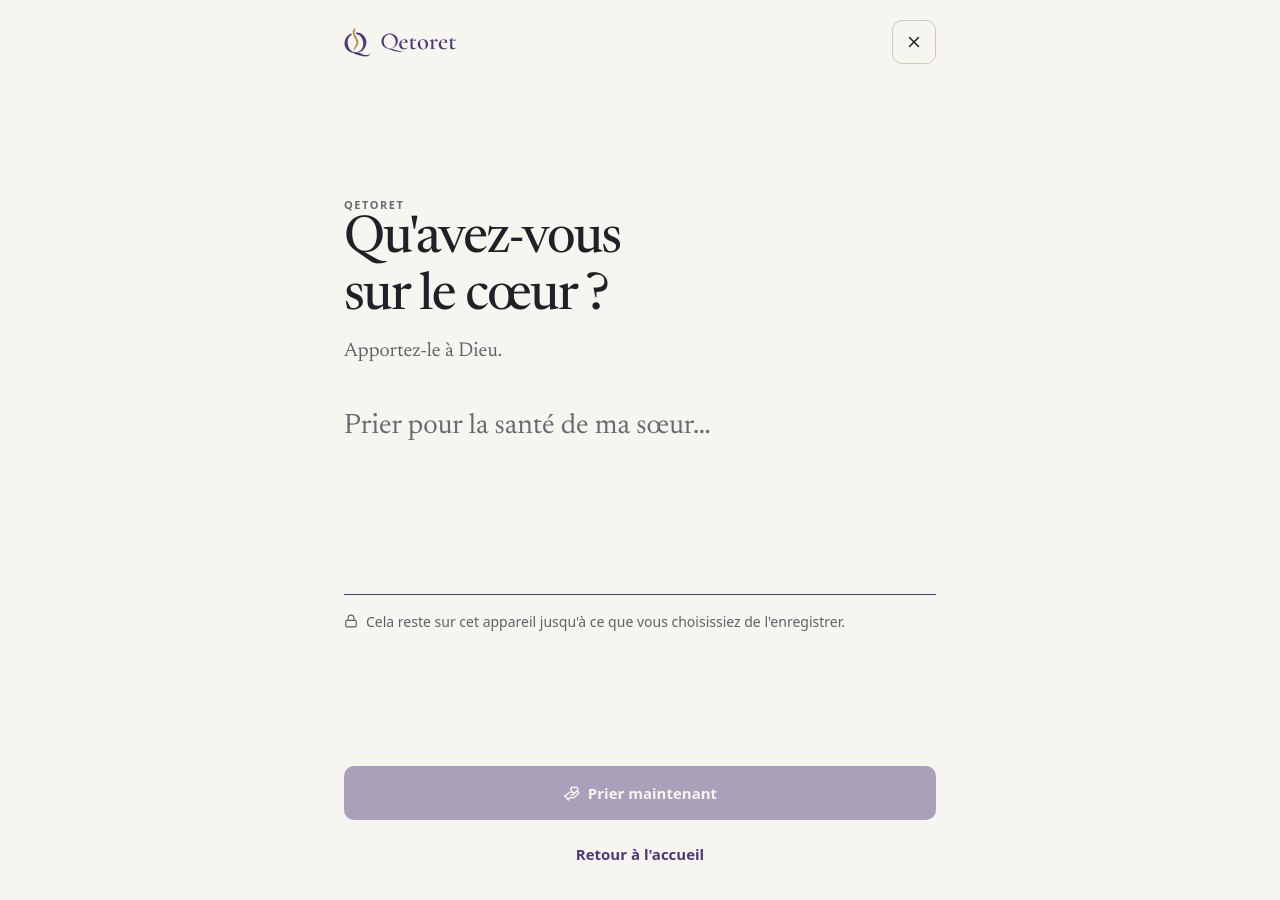
Test: GuestPrayerFlow (real browser) › renders the capture question and opens the prayer session in a real browser
Check: the heading "Qu'avez-vous sur le cœur ?" is shown, box [344,214,621,323]
Type "strength for a hard week" into the text box with placeholder "Prier pour la santé de ma sœur…" at (640, 492), box [344,389,936,595]
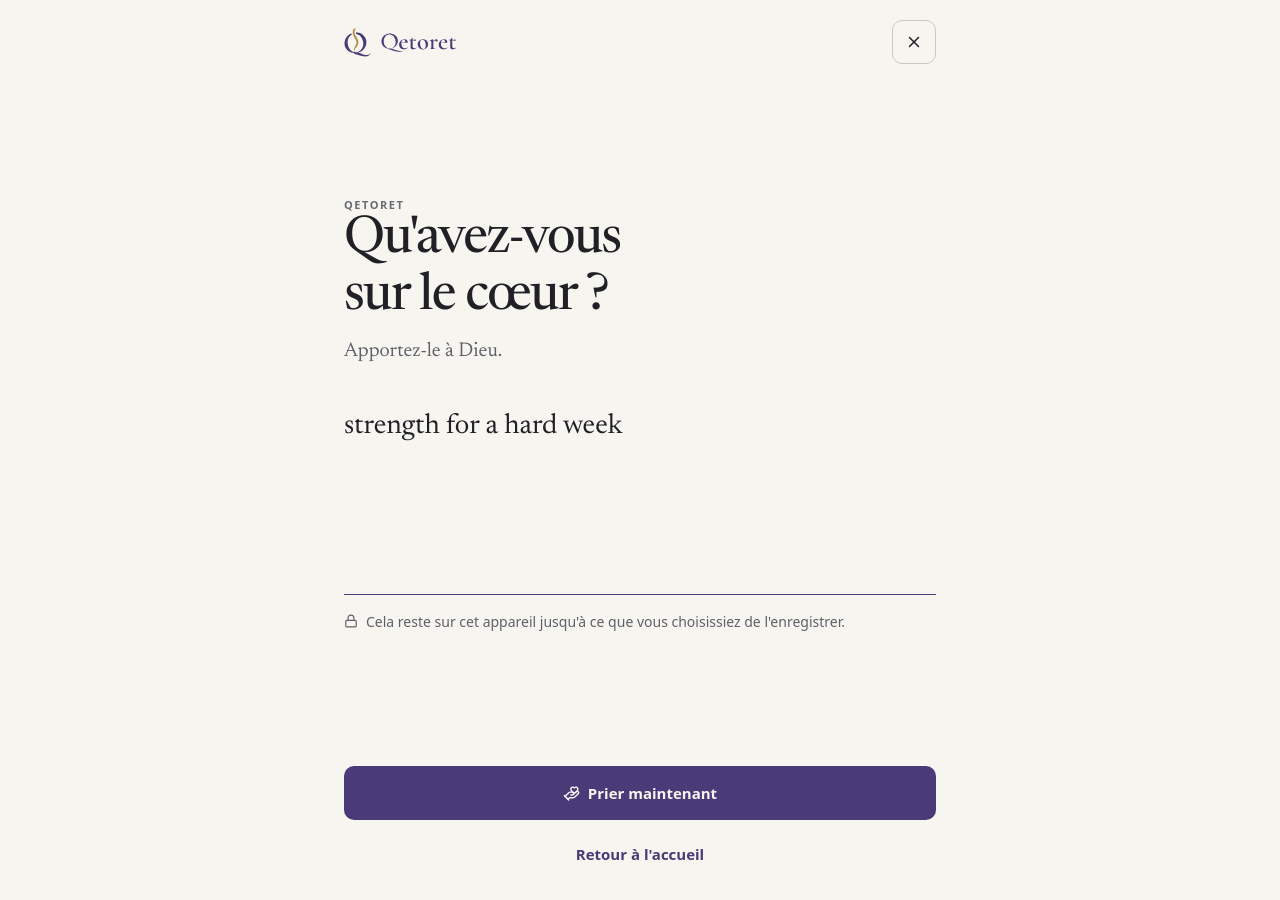
Click the button "Prier maintenant" at (640, 793), box [344,766,936,820]
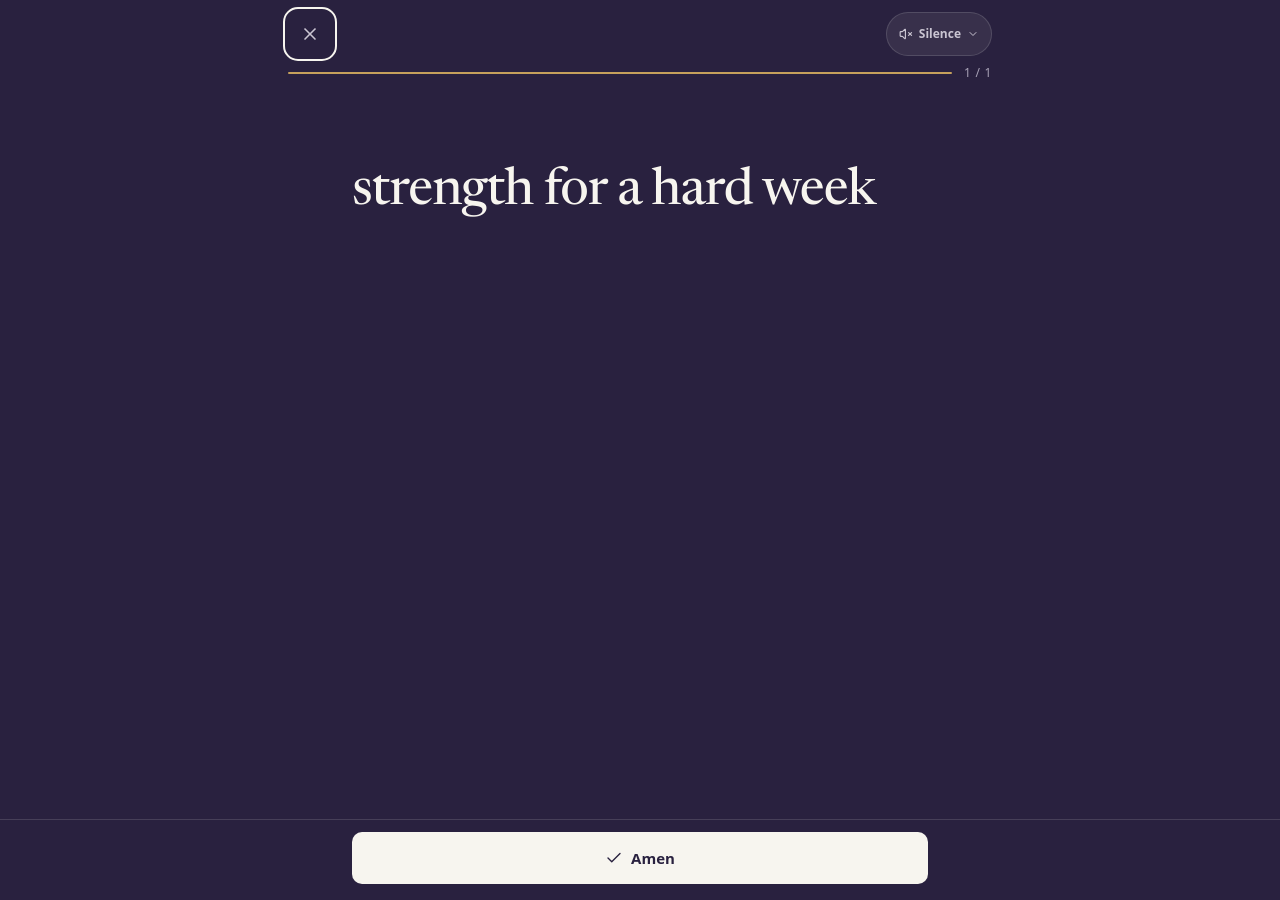
Check: the heading "strength for a hard week" is shown, box [352,164,928,221]
